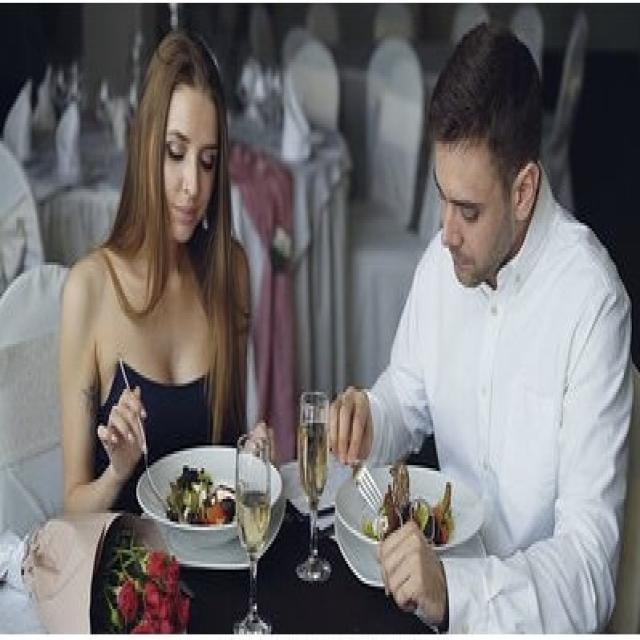eating-person: (287, 11, 640, 637), (55, 20, 287, 640)
